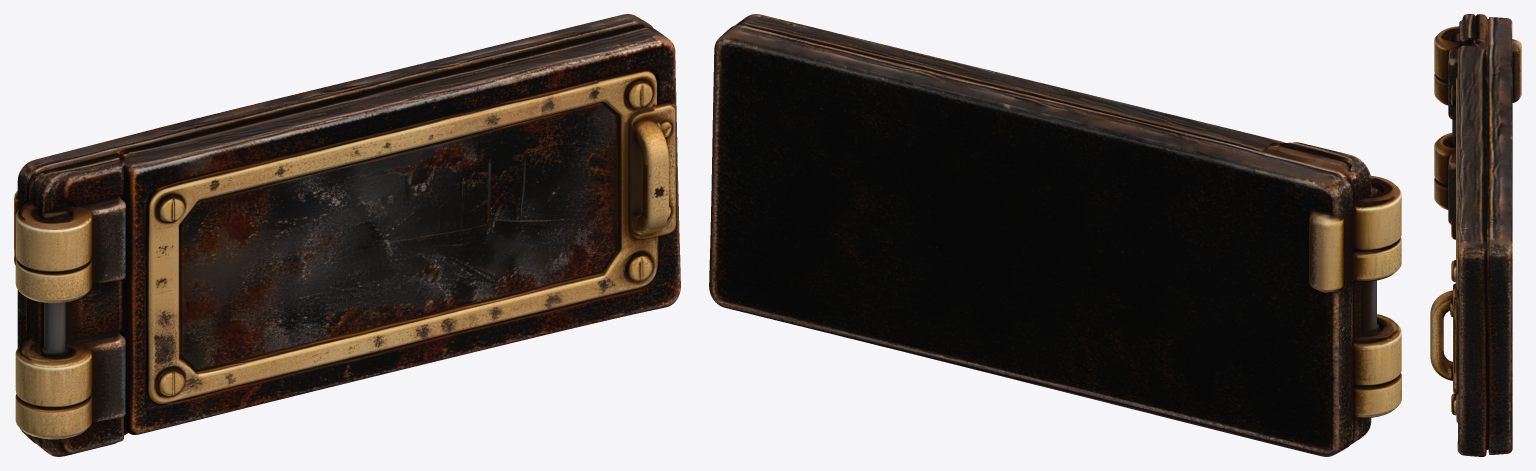
File: door.glb
3 renders of one model, left to right at view 1: azimuth 30°, elevation 25°; view 2: azimuth 150°, elevation 25°; view 3: azimuth 270°, elevation 25°, orthographic. The views are drawn at different scales.
Visible parts, largest first — view 1: Mesh_0; view 2: Mesh_0; view 3: Mesh_0.
Part boxes in pixels (left/top/right/bottom): Mesh_0: left=14, top=14, right=680, bottom=456; Mesh_0: left=709, top=14, right=1401, bottom=456; Mesh_0: left=1430, top=14, right=1521, bottom=456.
Bounding box in the file's own units: 1.13 × 0.4617 × 0.1766.
1 material, 1 textured.
